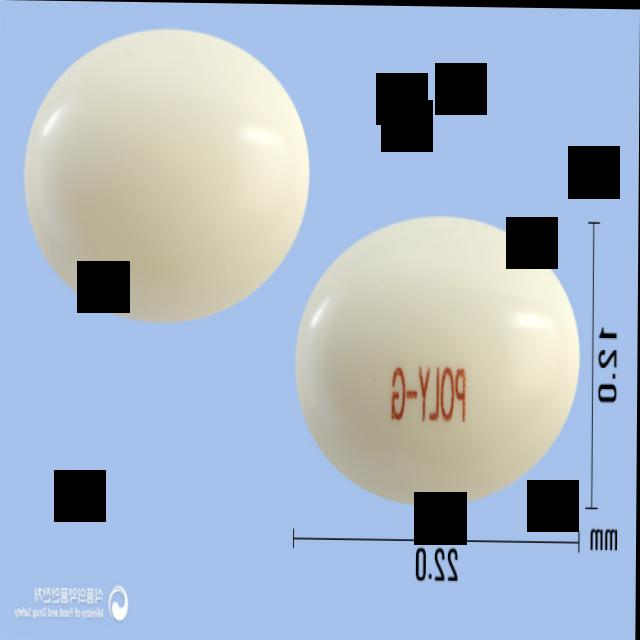Poly G Vaginal Soft Cap: (25, 25, 310, 325), (295, 208, 580, 507)
